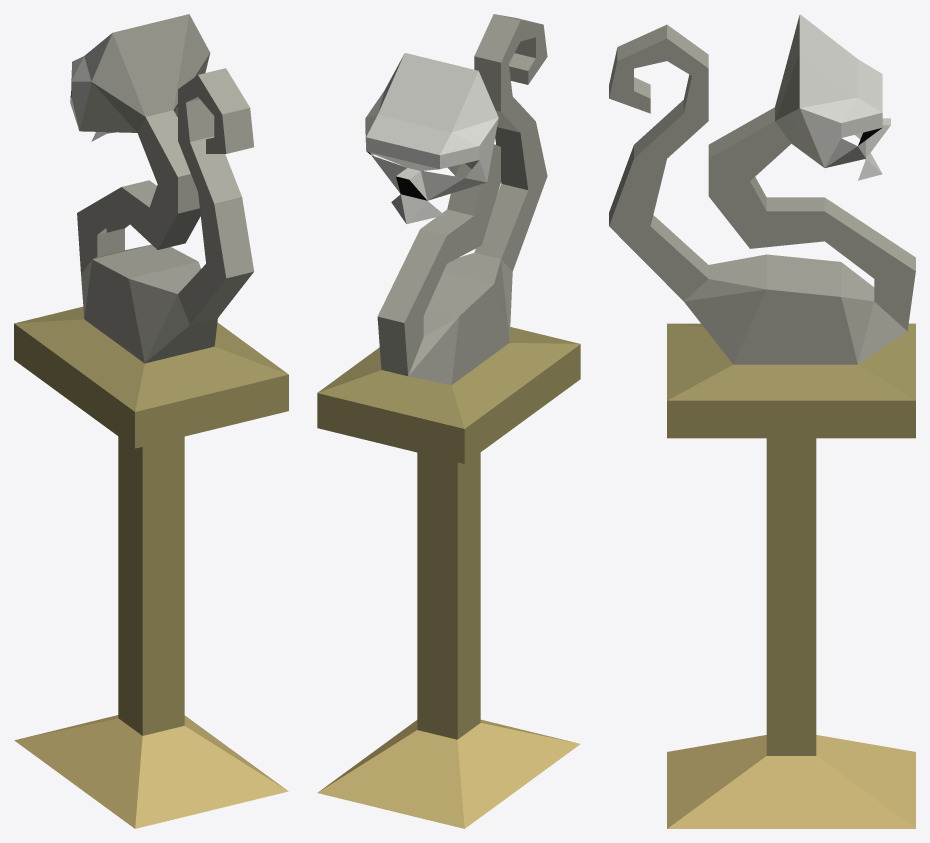
Rendered from inv_ogre_relic.obj.
The picture shows the model from 3 angles, left to right: view 1: azimuth 30°, elevation 25°; view 2: azimuth 150°, elevation 25°; view 3: azimuth 270°, elevation 25°; orthographic projection. The views are drawn at different scales.
Size of the model in its own units: 0.1719 by 0.7891 by 0.2891.
